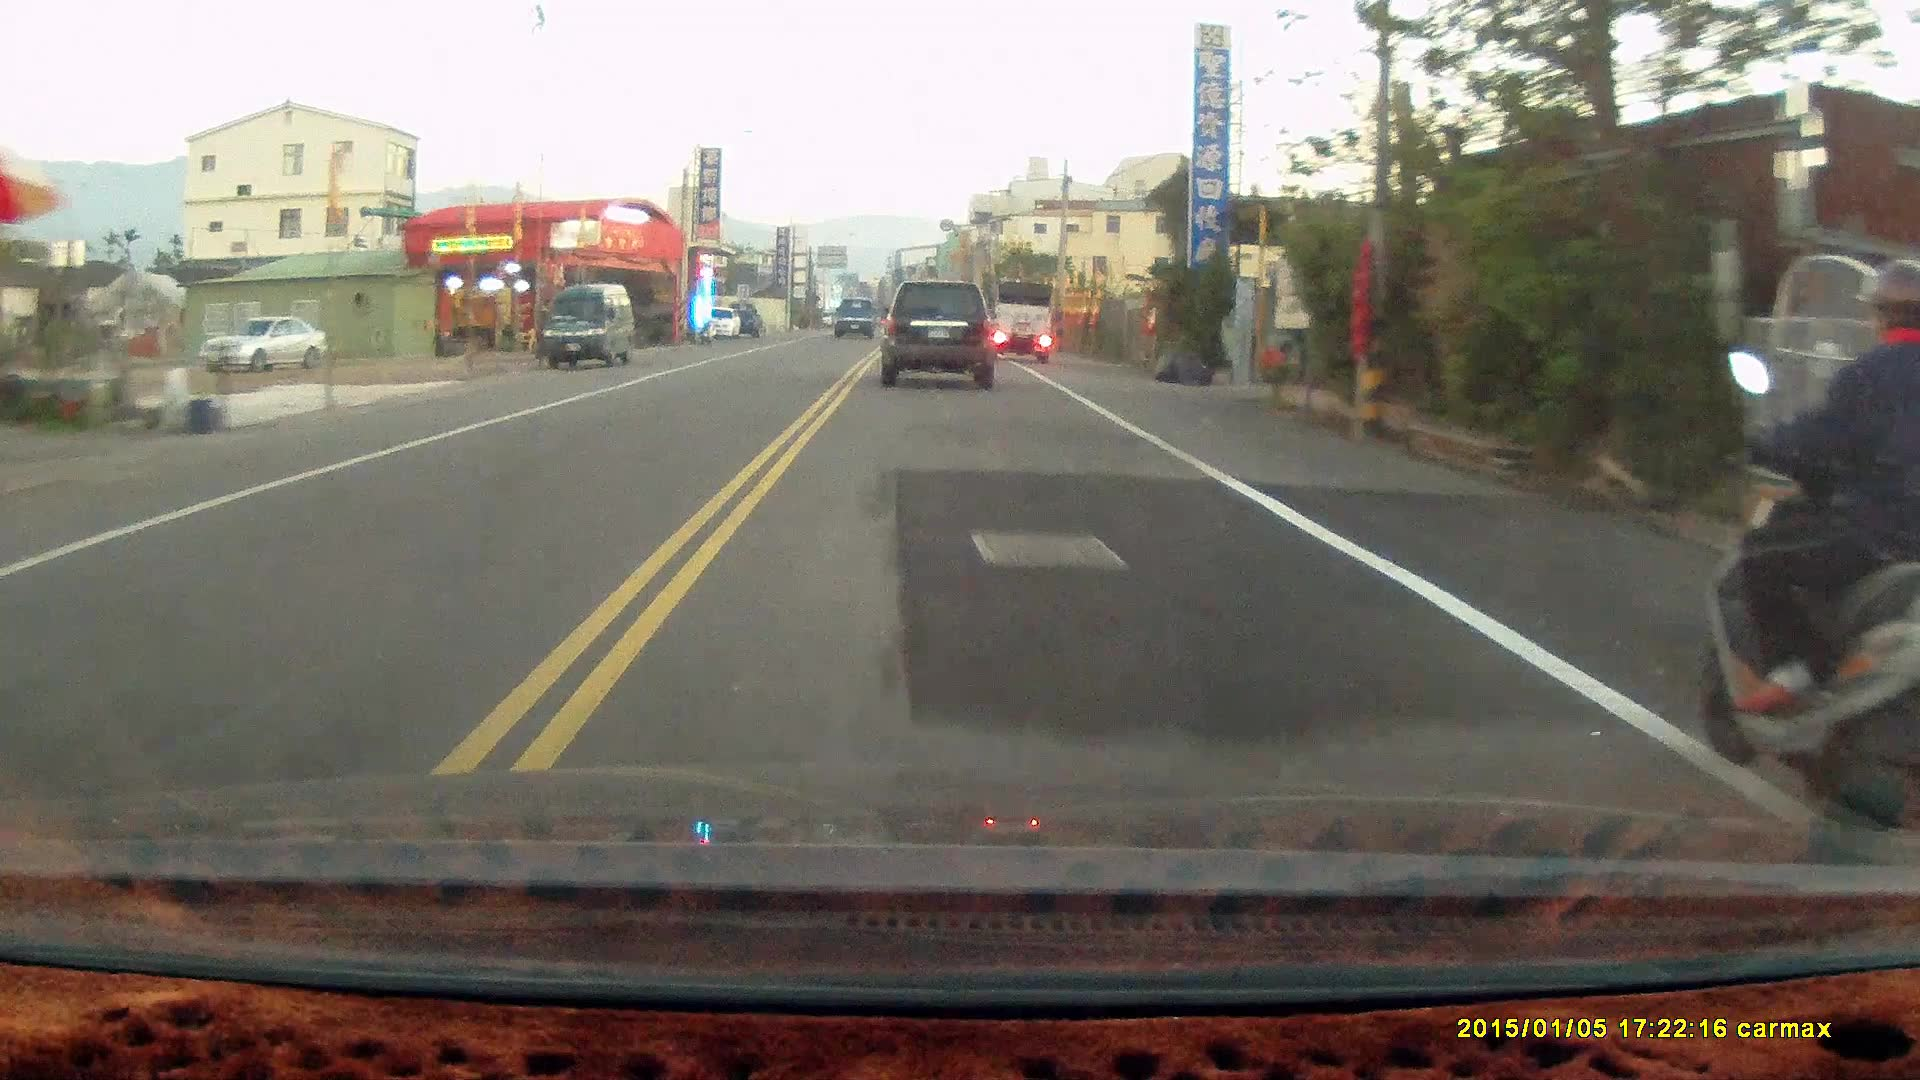rider: (1702, 246, 1920, 841)
vehicle: (876, 273, 1003, 386), (544, 283, 635, 371), (195, 315, 328, 372), (986, 277, 1058, 364)
